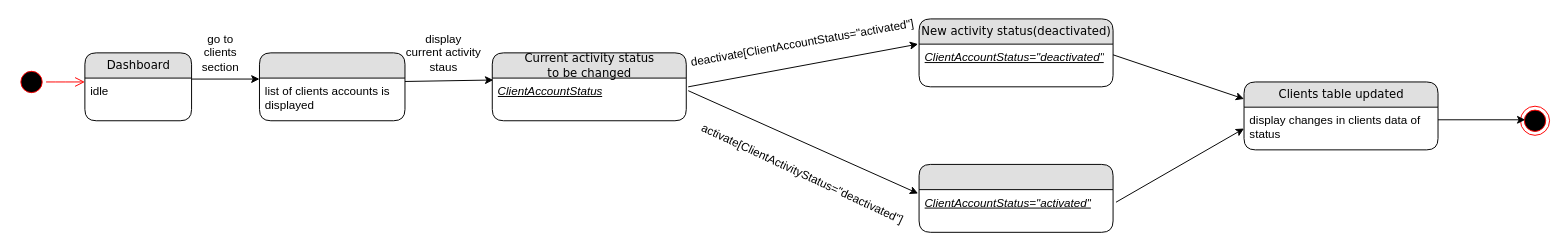
Image size: 1567x252. Some labels were removed from this diagram. The shapes that lost their labels are listed below. From the top down, each one's box as (x1, y1, x2, y2) in pixels, then its label:
(259, 52, 405, 121): Clients being displayed
(918, 163, 1113, 232): New Activity status(active)
